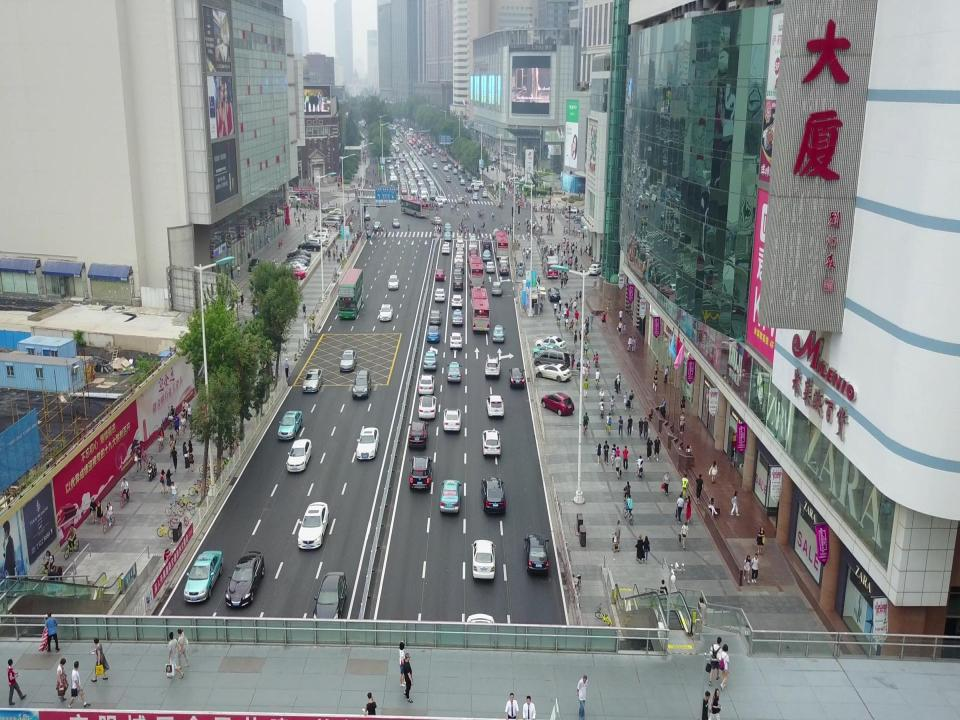bus: (338, 268, 363, 319), (470, 287, 490, 334), (401, 198, 429, 218), (468, 256, 484, 288), (493, 231, 508, 259), (544, 255, 558, 278), (389, 176, 399, 193), (439, 153, 447, 162)
car: (222, 549, 264, 612), (182, 550, 224, 605), (313, 571, 347, 630), (467, 613, 495, 683), (297, 501, 329, 551), (524, 534, 550, 575), (472, 538, 496, 582), (481, 478, 507, 515), (286, 439, 312, 472), (355, 428, 380, 462), (541, 392, 574, 415), (278, 410, 302, 441), (440, 479, 462, 512), (410, 456, 431, 489), (536, 363, 571, 382), (481, 428, 501, 459), (303, 369, 323, 394), (409, 422, 427, 449), (442, 409, 462, 433), (417, 397, 436, 420), (339, 350, 357, 371), (446, 362, 463, 383), (487, 394, 503, 415), (418, 374, 434, 395), (278, 268, 306, 280), (279, 264, 307, 276), (508, 367, 524, 387), (485, 358, 500, 379), (280, 262, 306, 274), (281, 256, 307, 268), (424, 351, 438, 371), (287, 249, 311, 260), (426, 325, 440, 342), (379, 304, 393, 321), (297, 242, 322, 251), (297, 239, 322, 248), (303, 237, 328, 246), (303, 232, 328, 241), (284, 257, 310, 265), (492, 325, 504, 342), (449, 331, 461, 348), (387, 274, 399, 291), (321, 217, 341, 227), (547, 286, 559, 302), (452, 309, 464, 324), (430, 310, 442, 325), (324, 212, 344, 221), (434, 288, 445, 303), (310, 228, 330, 236), (484, 262, 496, 274), (248, 259, 260, 271), (451, 294, 462, 307), (492, 282, 502, 296), (588, 265, 602, 275), (453, 277, 463, 290), (328, 209, 346, 216), (320, 205, 338, 212), (434, 269, 444, 281), (499, 264, 509, 276), (454, 255, 464, 267), (455, 262, 464, 275), (470, 180, 484, 188), (482, 250, 492, 261), (431, 216, 442, 225), (361, 209, 370, 220), (442, 244, 450, 256), (454, 268, 462, 280), (435, 196, 447, 204), (456, 247, 464, 258), (456, 239, 464, 250), (469, 234, 477, 244), (444, 231, 452, 240), (392, 219, 400, 228), (444, 223, 452, 232), (456, 235, 464, 244), (470, 249, 478, 258), (469, 241, 477, 250), (373, 221, 381, 230), (434, 199, 442, 208), (499, 258, 507, 267), (458, 197, 466, 204), (472, 193, 478, 201), (460, 179, 466, 187), (410, 187, 416, 195), (411, 183, 417, 191), (394, 163, 400, 171), (416, 161, 422, 169), (445, 175, 451, 182), (452, 168, 458, 175), (430, 192, 436, 199), (430, 187, 436, 194), (401, 188, 407, 195), (432, 162, 438, 169), (466, 186, 472, 193), (429, 180, 435, 187), (426, 176, 432, 183), (419, 166, 425, 173), (421, 188, 427, 195), (417, 176, 423, 183), (414, 173, 420, 180), (412, 167, 418, 174), (406, 171, 412, 178), (405, 169, 411, 176), (403, 165, 409, 172), (401, 183, 407, 190), (400, 178, 406, 185), (398, 170, 404, 177), (394, 160, 400, 167), (386, 156, 392, 163), (389, 165, 395, 172), (390, 169, 396, 176), (412, 155, 418, 162), (409, 151, 415, 158), (406, 157, 412, 164), (404, 154, 410, 161), (402, 151, 408, 158), (399, 154, 405, 161), (482, 191, 488, 197), (421, 193, 427, 199), (457, 175, 463, 181), (473, 186, 479, 192), (430, 185, 436, 191), (422, 173, 428, 179), (419, 181, 425, 187), (409, 179, 415, 185), (408, 175, 414, 181), (447, 163, 453, 169), (461, 168, 467, 173), (454, 164, 460, 169), (458, 166, 464, 171), (466, 175, 472, 180), (470, 177, 476, 182), (399, 158, 405, 162), (444, 166, 448, 171), (431, 153, 435, 158), (418, 152, 422, 156), (423, 152, 426, 155)
van: (352, 370, 371, 400), (564, 210, 578, 219)
